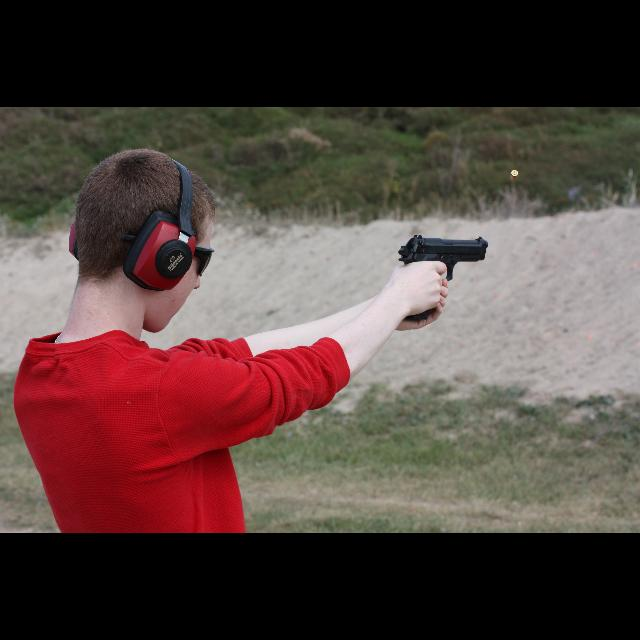handgun: (396, 233, 492, 285)
